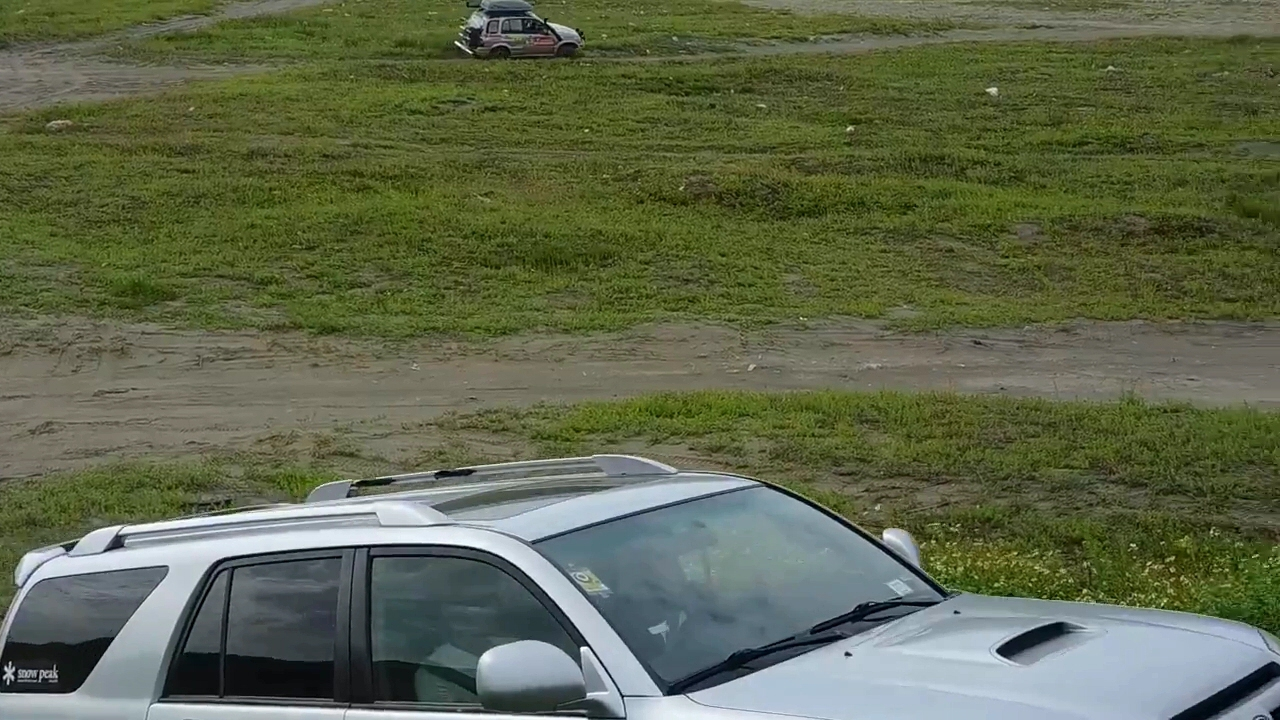araba: (1, 454, 1277, 720), (458, 1, 587, 58)
